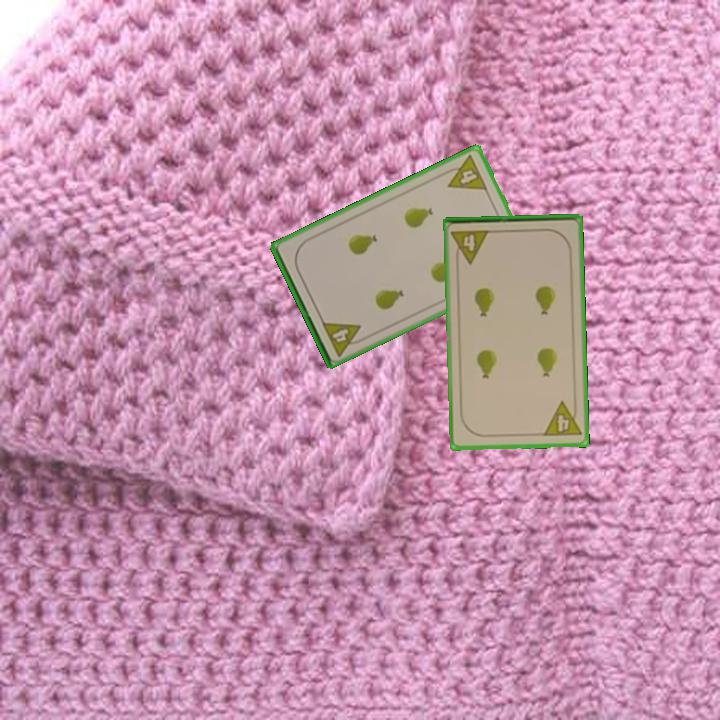4p: (439, 151, 490, 193), (318, 317, 368, 359), (540, 398, 584, 440), (448, 226, 492, 266)
